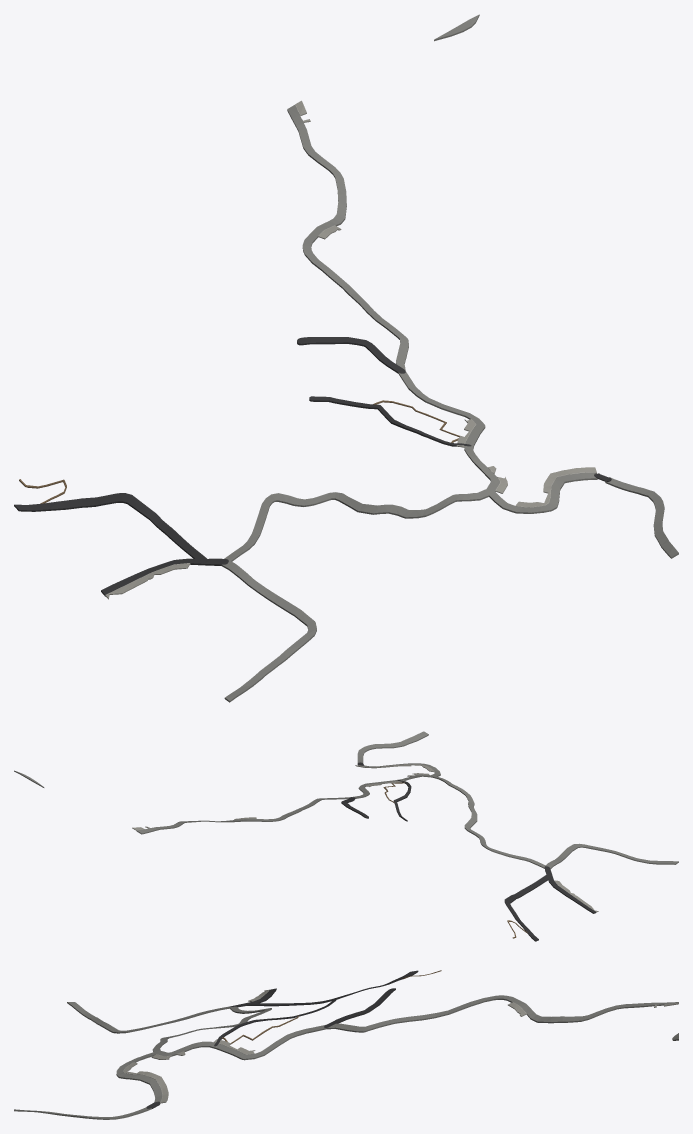
3 renders of one model, top to bottom at view 1: azimuth 30°, elevation 25°; view 2: azimuth 150°, elevation 25°; view 3: azimuth 270°, elevation 25°, orthographic. The views are drawn at different scales.
Size of the model in its own units: 516 by 205 by 583.
